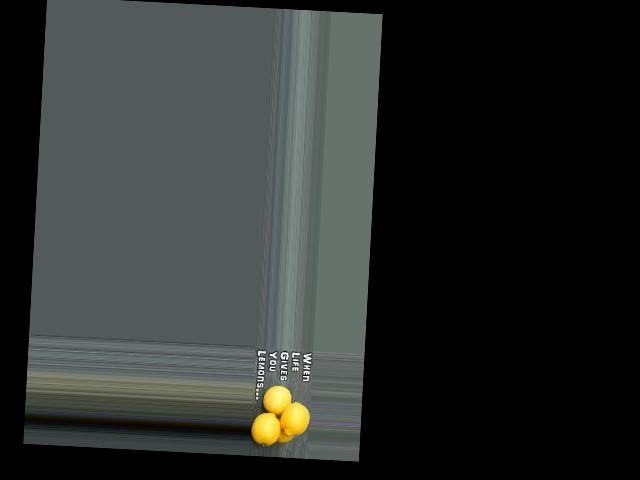lemon: (252, 409, 281, 446)
